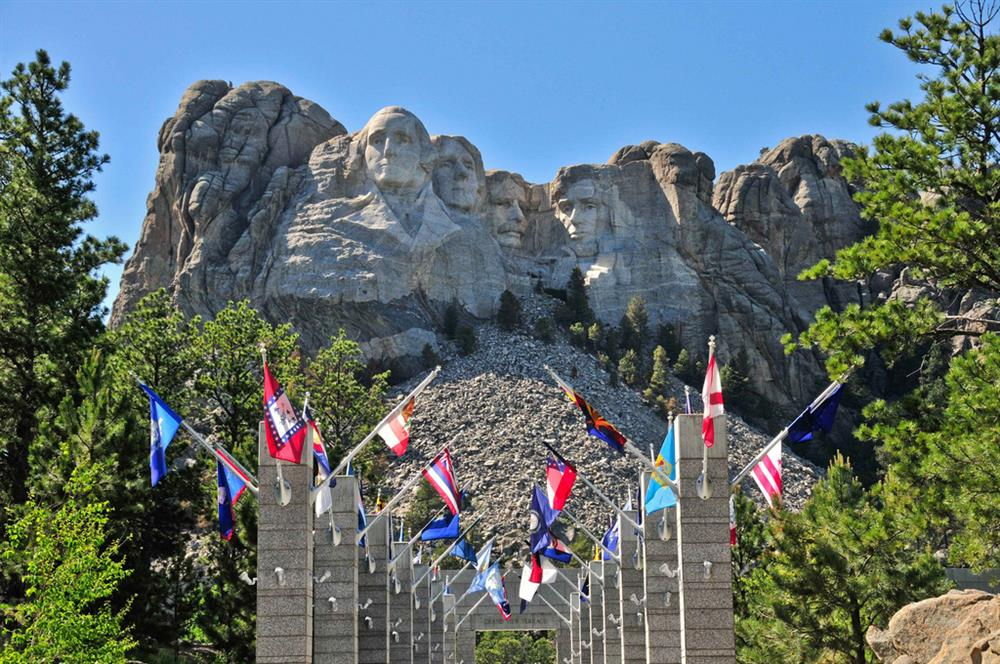Mount_Rushmore: (351, 98, 633, 256)
